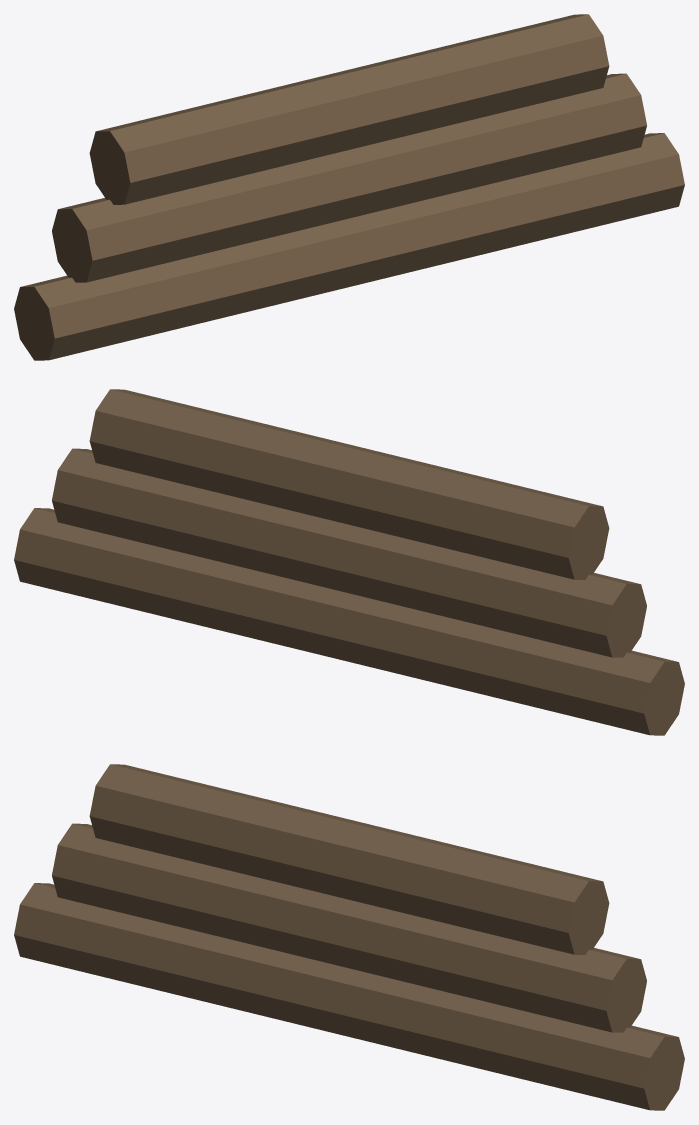
Rendered from log_pile.glb.
3 renders of one model, top to bottom at view 1: azimuth 30°, elevation 25°; view 2: azimuth 150°, elevation 25°; view 3: azimuth 330°, elevation 25°, orthographic.
Visible parts, largest first — view 1: log_pile; view 2: log_pile; view 3: log_pile.
Part boxes in pixels (bbox=[...]): log_pile: bbox=[14, 14, 684, 360]; log_pile: bbox=[14, 389, 684, 735]; log_pile: bbox=[14, 764, 684, 1110].
Bounding box in the file's own units: 2.5 × 0.8 × 0.28.
